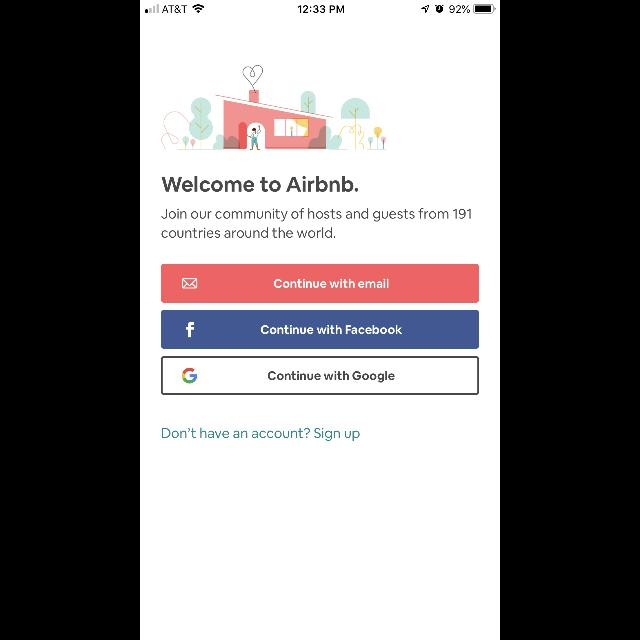image: (162, 66, 386, 150)
text: (162, 208, 470, 238), (162, 176, 358, 192), (162, 428, 360, 440)
textbutton: (161, 310, 479, 350), (161, 356, 479, 396), (161, 264, 479, 302)
uppertaskbar: (140, 0, 500, 14)
